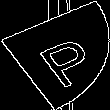P_NW: (16, 24, 94, 86)
